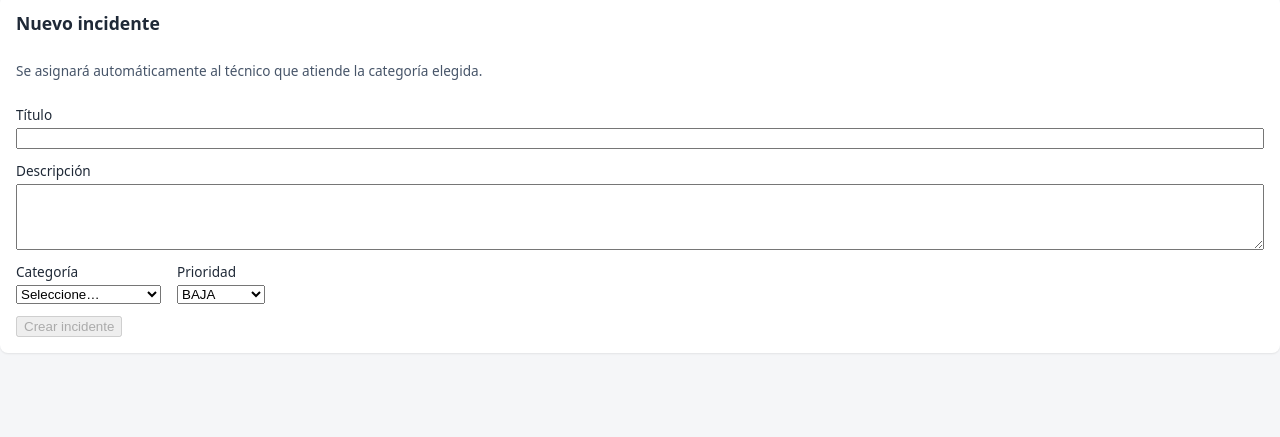
Test: IncidentForm › muestra los errores del backend y conserva lo escrito
Type "No enciende" into the field labelled "Título" at {"x": 640, "y": 139}, box [16,128,1264,149]
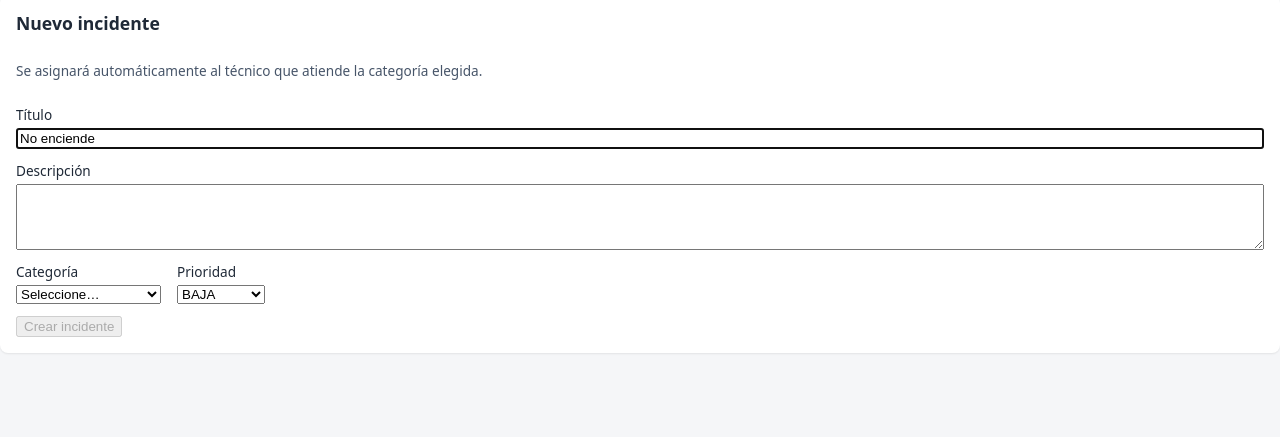
Type "Sin energia" into the text box labelled "Descripción" at {"x": 640, "y": 217}, box [16,184,1264,250]
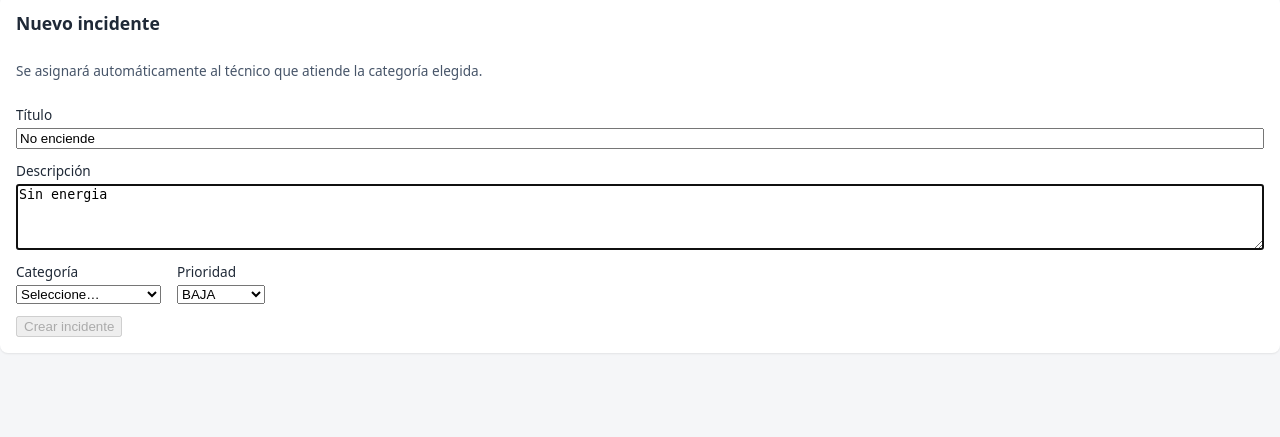
Select "Equipo de computo" in the dropdown labelled "Categoría" at {"x": 88, "y": 295}, box [16,285,161,304]
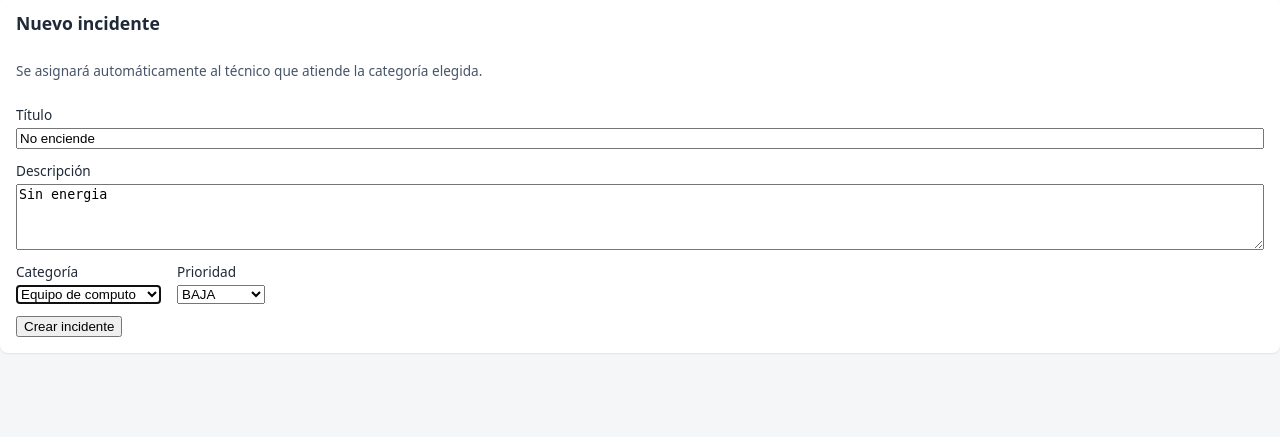
Click the button "Crear incidente" at {"x": 69, "y": 327}, box [16,316,122,337]
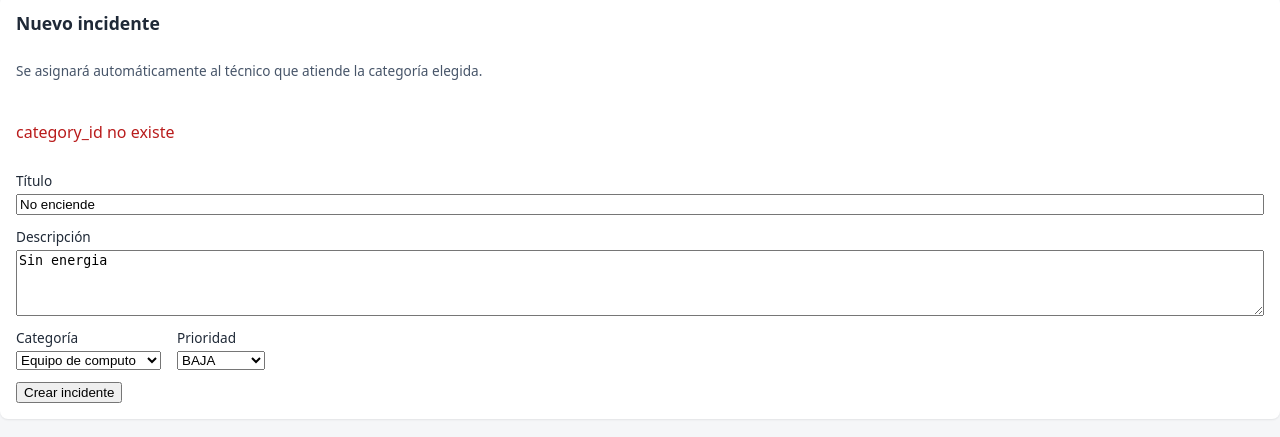
Expected: the message reads "category_id no existe", [16,121,174,143]
